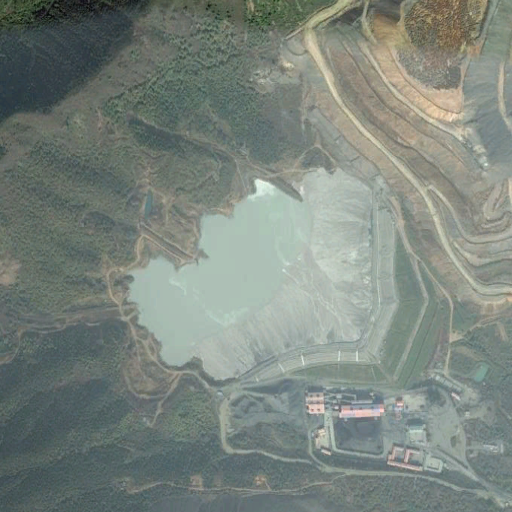tp: (122, 161, 446, 396)
